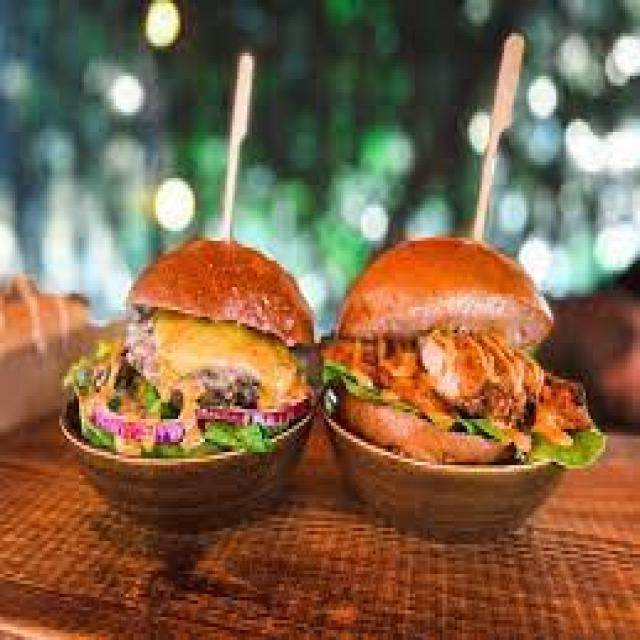햄버거: (319, 238, 605, 541), (59, 241, 314, 531)
